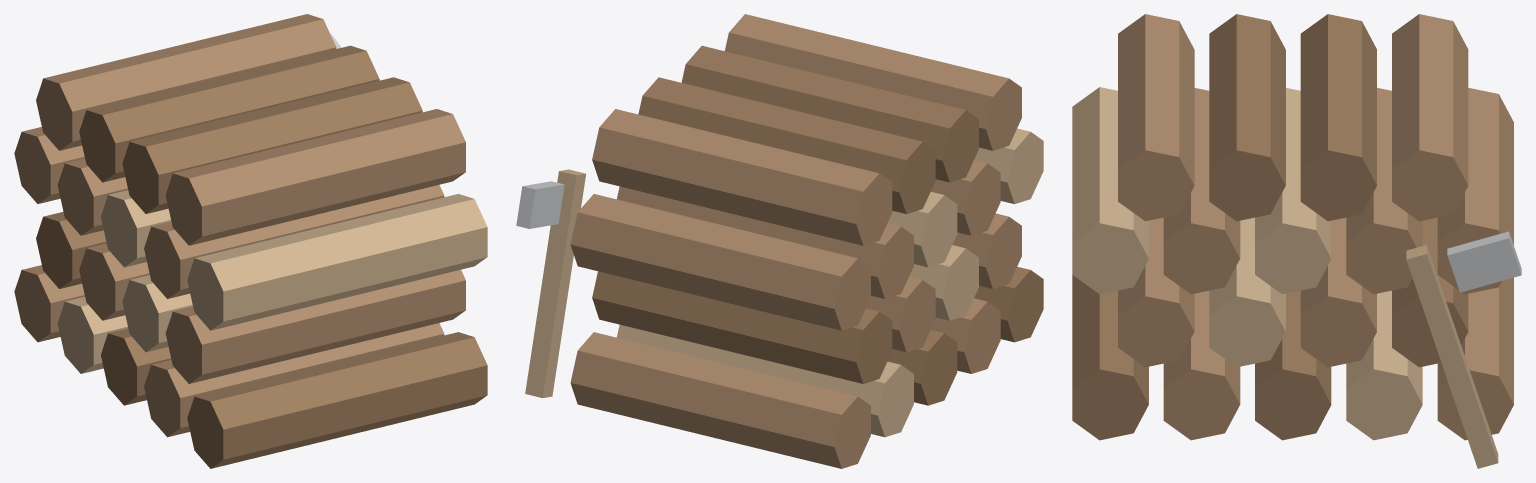
The model's file is prop_firewood.glb.
3 renders of one model, left to right at view 1: azimuth 30°, elevation 25°; view 2: azimuth 150°, elevation 25°; view 3: azimuth 270°, elevation 25°, orthographic. The views are drawn at different scales.
Parts seen in each view (by area): view 1: Log.0.1, Log.0.0, Log.0.3; view 2: Log.0.1, Log.0.0, Log.0.3, Hatchet head; view 3: Log.0.1, Log.0.0, Log.0.3, Hatchet head.
Part boxes in pixels (left/top/right/bottom): Log.0.1: left=14, top=14, right=465, bottom=437; Log.0.0: left=36, top=45, right=487, bottom=468; Log.0.3: left=57, top=190, right=487, bottom=373; Log.0.1: left=570, top=14, right=1021, bottom=468; Log.0.0: left=592, top=45, right=1043, bottom=405; Log.0.3: left=525, top=128, right=1043, bottom=437; Hatchet head: left=516, top=181, right=564, bottom=228; Log.0.1: left=1118, top=14, right=1513, bottom=440; Log.0.0: left=1072, top=14, right=1468, bottom=440; Log.0.3: left=1072, top=87, right=1498, bottom=468; Hatchet head: left=1447, top=231, right=1521, bottom=292.
Bounding box in the file's own units: 0.72 × 0.599 × 0.8367.
